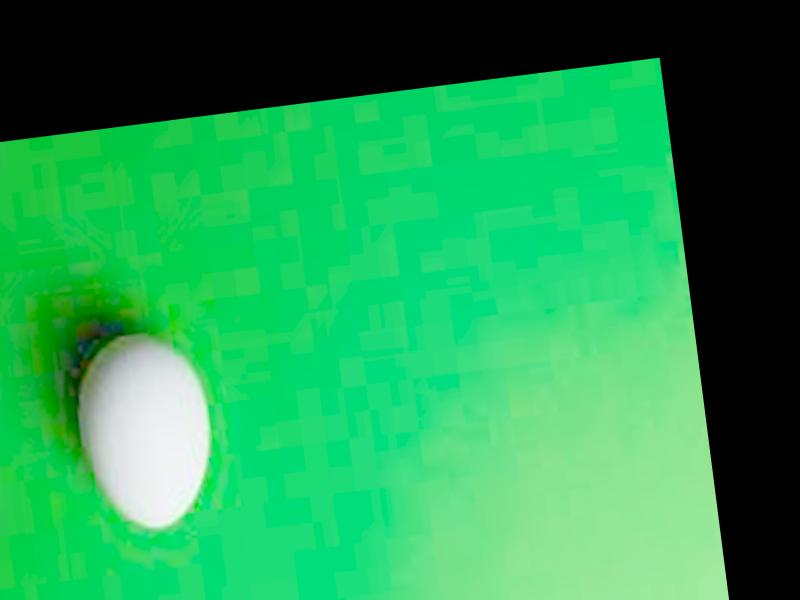Eggs: (69, 327, 219, 537)
